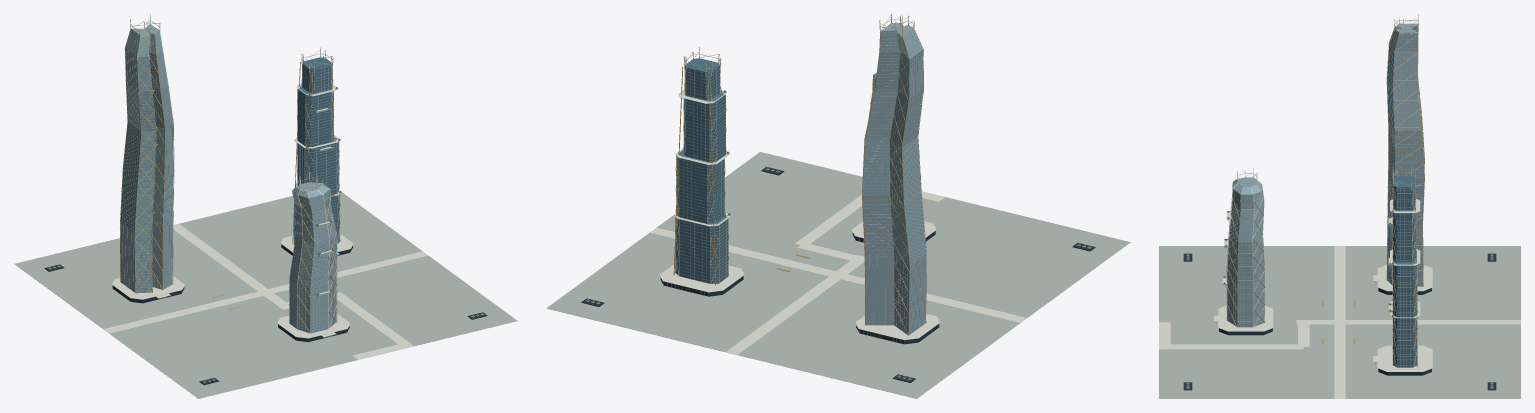
File: center.glb
3 renders of one model, left to right at view 1: azimuth 30°, elevation 25°; view 2: azimuth 150°, elevation 25°; view 3: azimuth 270°, elevation 25°, orthographic. The views are drawn at different scales.
Parts seen in each view (by area): view 1: GC-SUBCENTER-002-stone, GC-SUBCENTER-002-glass, GC-SUBCENTER-002-silver, GC-SUBCENTER-002-ivory, GC-SUBCENTER-002-blue, GC-SUBCENTER-002-gold, GC-SUBCENTER-002-dark; view 2: GC-SUBCENTER-002-stone, GC-SUBCENTER-002-glass, GC-SUBCENTER-002-silver, GC-SUBCENTER-002-blue, GC-SUBCENTER-002-ivory, GC-SUBCENTER-002-gold, GC-SUBCENTER-002-dark; view 3: GC-SUBCENTER-002-stone, GC-SUBCENTER-002-glass, GC-SUBCENTER-002-ivory, GC-SUBCENTER-002-silver, GC-SUBCENTER-002-blue, GC-SUBCENTER-002-gold, GC-SUBCENTER-002-dark.
Part boxes in pixels (x1,y1,x2,y2): GC-SUBCENTER-002-stone: (14,88,517,398); GC-SUBCENTER-002-glass: (120,24,336,333); GC-SUBCENTER-002-silver: (120,17,340,339); GC-SUBCENTER-002-ivory: (103,14,427,359); GC-SUBCENTER-002-blue: (158,57,339,337); GC-SUBCENTER-002-gold: (120,14,340,337); GC-SUBCENTER-002-dark: (44,244,487,385); GC-SUBCENTER-002-stone: (546,91,1130,398); GC-SUBCENTER-002-glass: (863,23,926,334); GC-SUBCENTER-002-silver: (675,15,926,335); GC-SUBCENTER-002-blue: (675,58,728,283); GC-SUBCENTER-002-ivory: (650,15,1026,354); GC-SUBCENTER-002-gold: (667,14,926,343); GC-SUBCENTER-002-dark: (581,167,1095,382); GC-SUBCENTER-002-stone: (1159,198,1520,398); GC-SUBCENTER-002-glass: (1222,23,1424,327); GC-SUBCENTER-002-ivory: (1159,14,1520,398); GC-SUBCENTER-002-silver: (1216,17,1424,367); GC-SUBCENTER-002-blue: (1393,176,1417,367); GC-SUBCENTER-002-gold: (1214,14,1424,367); GC-SUBCENTER-002-dark: (1183,253,1496,390).
Bounding box in the file's own units: 500 × 400 × 500.
